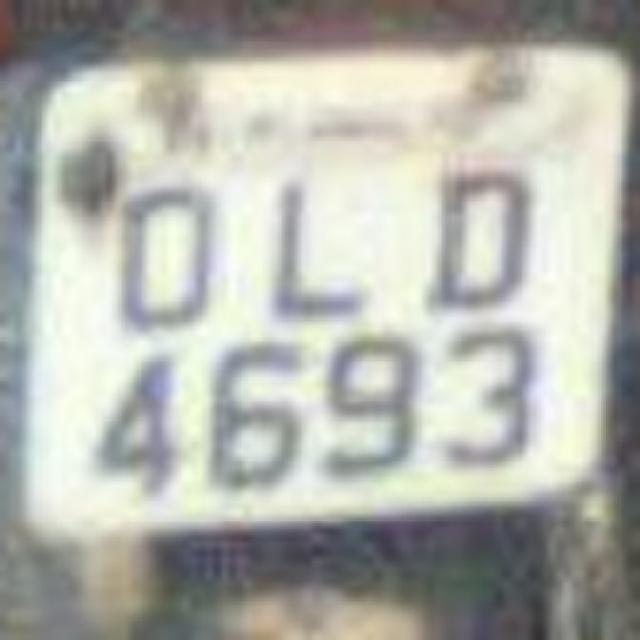3: (400, 312, 565, 500)
4: (52, 320, 212, 508)
6: (164, 316, 328, 509)
9: (292, 312, 436, 496)
O: (408, 156, 560, 332), (104, 152, 244, 340)
